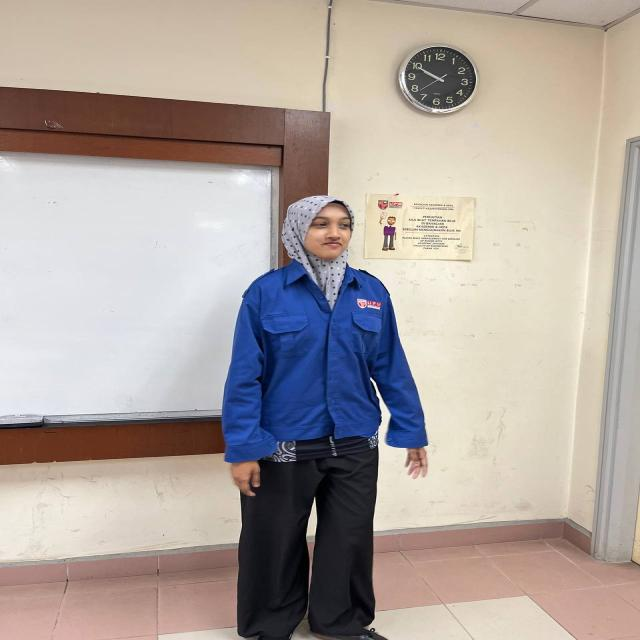person_with_labcoat: (223, 196, 427, 640)
